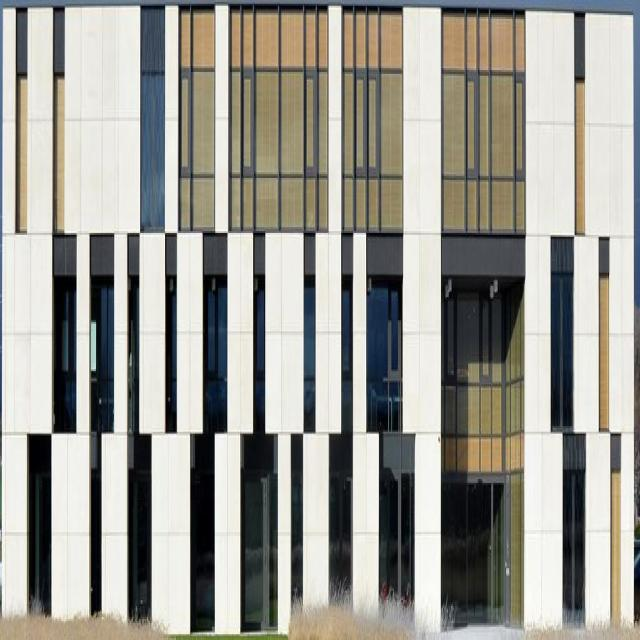door: (490, 474, 508, 626)
window: (442, 294, 509, 626), (367, 283, 413, 606), (191, 280, 228, 634), (242, 279, 278, 634), (551, 273, 587, 619), (128, 277, 152, 623), (330, 281, 352, 592), (141, 10, 166, 235), (29, 433, 51, 617), (54, 275, 78, 434), (93, 285, 113, 434), (291, 438, 302, 604), (165, 281, 177, 432), (304, 284, 315, 435)
